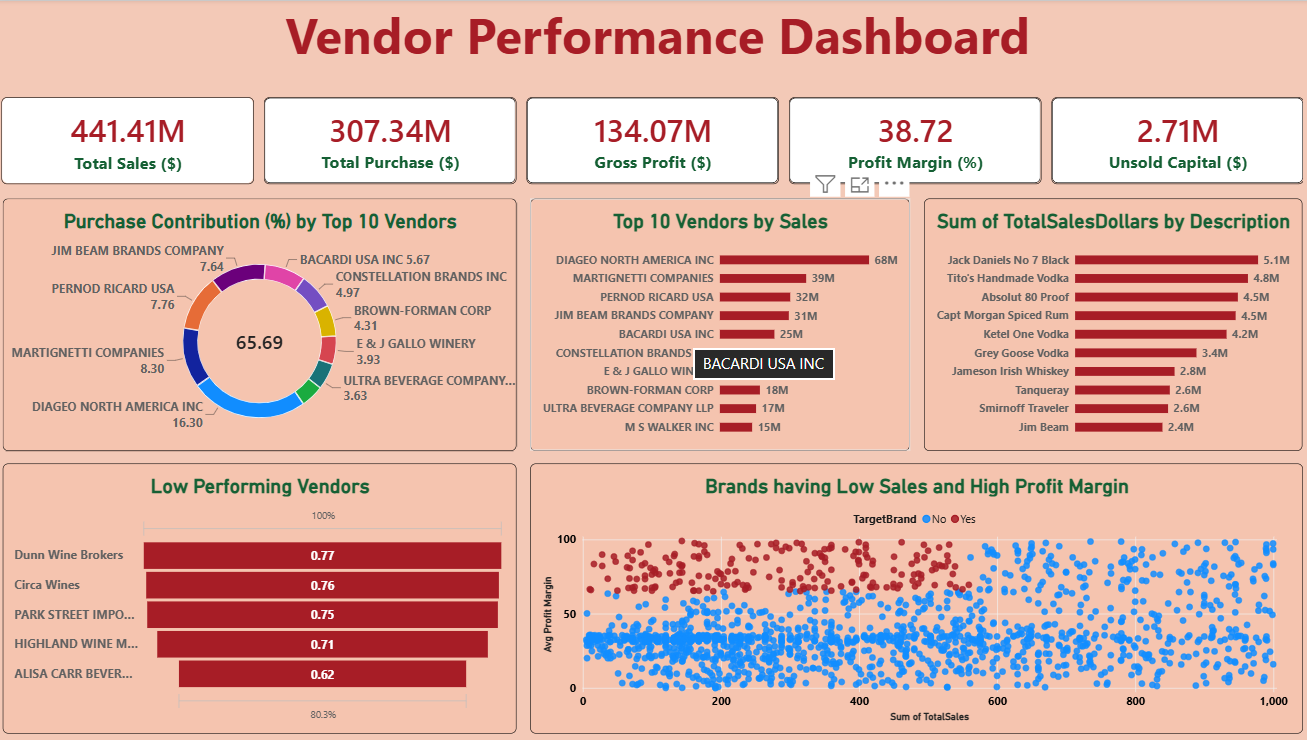

This screenshot's page, from the dashboard's own definition file:
{"tool":"powerbi","page":{"name":"Page 1","canvas":[1920,1080],"ordinal":0},"visuals":[{"type":"textbox","box":[10.9,0,1909.2,97.7],"z":0},{"type":"cardVisual","title":"dkjfkjkfj","fields":{"Data":["Sum(vendor_sales_summary.TotalSalesDollars)"]},"box":[10.9,139.3,367.4,126.7],"z":1000},{"type":"cardVisual","title":"dkjfkjkfj","fields":{"Data":["Sum(vendor_sales_summary.TotalPurchaseDollars)"]},"box":[392.7,139.3,367.4,126.7],"z":2000},{"type":"cardVisual","title":"dkjfkjkfj","fields":{"Data":["Sum(vendor_sales_summary.GrossProfit)"]},"box":[774.5,139.3,367.4,126.7],"z":3000},{"type":"cardVisual","title":"dkjfkjkfj","fields":{"Data":["Avg(vendor_sales_summary.ProfitMargin)"]},"box":[1156.4,139.3,367.4,126.7],"z":4000},{"type":"cardVisual","title":"dkjfkjkfj","fields":{"Data":["vendor_sales_summary.Unsold Capital ($)"]},"box":[1537.6,140,367.4,126.7],"z":5000},{"type":"donutChart","title":"Purchase Contribution (%) by Top 10 Vendors","fields":{"Category":["PurchaseContribution.VendorName"],"Y":["Sum(PurchaseContribution.PurchaseContribution%)"]},"box":[12.7,287.7,747.4,367.4],"z":5001},{"type":"barChart","title":"Top 10 Vendors by Sales","fields":{"Category":["vendor_sales_summary.VendorName"],"Y":["Sum(vendor_sales_summary.TotalSalesDollars)"]},"box":[780.9,287.7,551.9,367.4],"z":5002},{"type":"barChart","fields":{"Category":["vendor_sales_summary.Description"],"Y":["Sum(vendor_sales_summary.TotalSalesDollars)"]},"box":[1353.6,287.7,550.1,367.4],"z":5003},{"type":"funnel","title":"Low Performing Vendors","fields":{"Category":["LowTurnoverVendor.VendorName"],"Y":["Sum(LowTurnoverVendor.AvgStockTurnOver)"]},"box":[12.7,673.2,747.4,392.7],"z":5004},{"type":"scatterChart","title":"Brands having Low Sales and High Profit Margin","fields":{"Category":["BrandPerformance.Description"],"Series":["BrandPerformance.TargetBrand"],"X":["Sum(BrandPerformance.TotalSales)"],"Y":["Avg(BrandPerformance.AvgProfitMargin)"]},"box":[780,673.2,1123.8,392.7],"z":5005}]}

Visuals, with their boxes in screenshot pixels (x1, y1, x2, y2), scaled from the page's 1920x1080 canvas onto the 1307x740 screenshot:
textbox: {"x1": 7, "y1": 0, "x2": 1306, "y2": 67}
"dkjfkjkfj" cardVisual: {"x1": 7, "y1": 95, "x2": 258, "y2": 182}
"dkjfkjkfj" cardVisual: {"x1": 267, "y1": 95, "x2": 517, "y2": 182}
"dkjfkjkfj" cardVisual: {"x1": 527, "y1": 95, "x2": 777, "y2": 182}
"dkjfkjkfj" cardVisual: {"x1": 787, "y1": 95, "x2": 1037, "y2": 182}
"dkjfkjkfj" cardVisual: {"x1": 1047, "y1": 96, "x2": 1297, "y2": 183}
"Purchase Contribution (%) by Top 10 Vendors" donutChart: {"x1": 9, "y1": 197, "x2": 517, "y2": 449}
"Top 10 Vendors by Sales" barChart: {"x1": 532, "y1": 197, "x2": 907, "y2": 449}
barChart - vendor_sales_summary.Description x Sum(vendor_sales_summary.TotalSalesDollars): {"x1": 921, "y1": 197, "x2": 1296, "y2": 449}
"Low Performing Vendors" funnel: {"x1": 9, "y1": 461, "x2": 517, "y2": 730}
"Brands having Low Sales and High Profit Margin" scatterChart: {"x1": 531, "y1": 461, "x2": 1296, "y2": 730}
